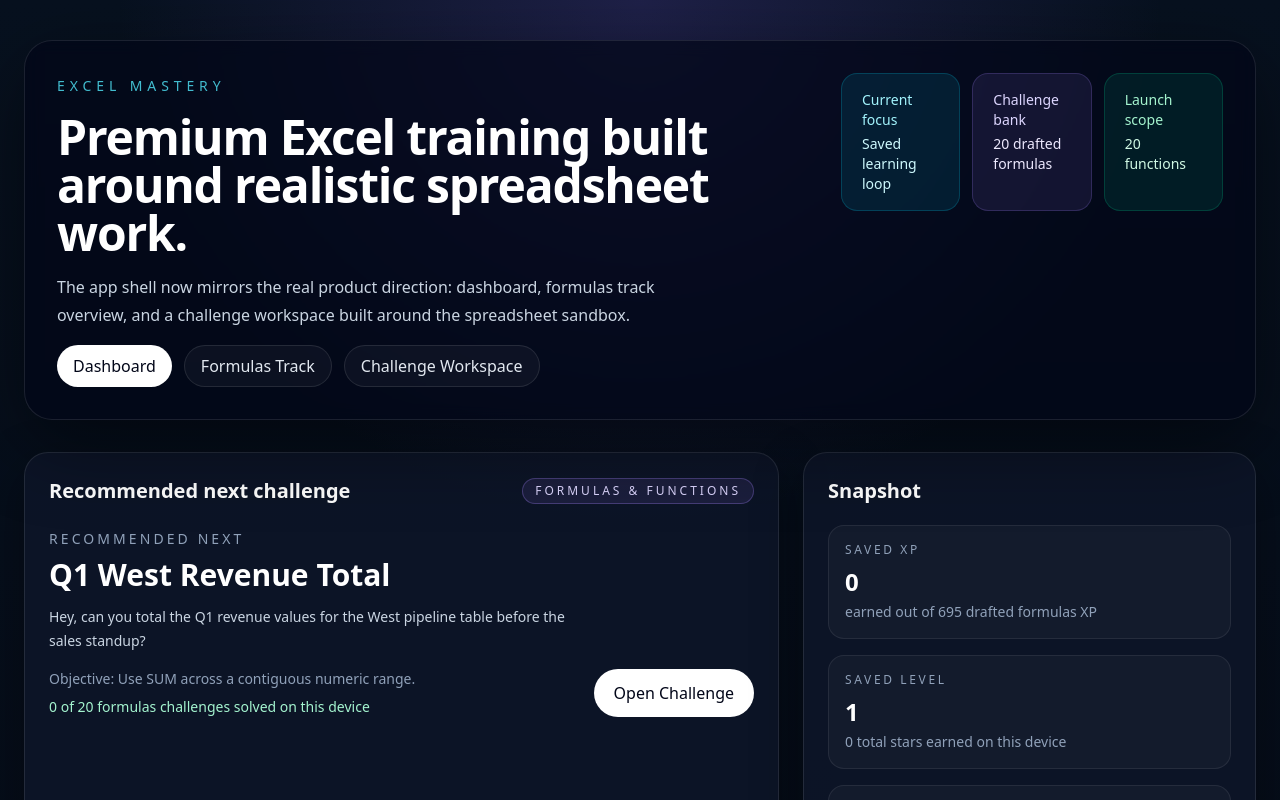
Test case: App › renders the formulas track overview
Click the button "Formulas Track". click: (258, 366)
box: [184, 345, 332, 387]
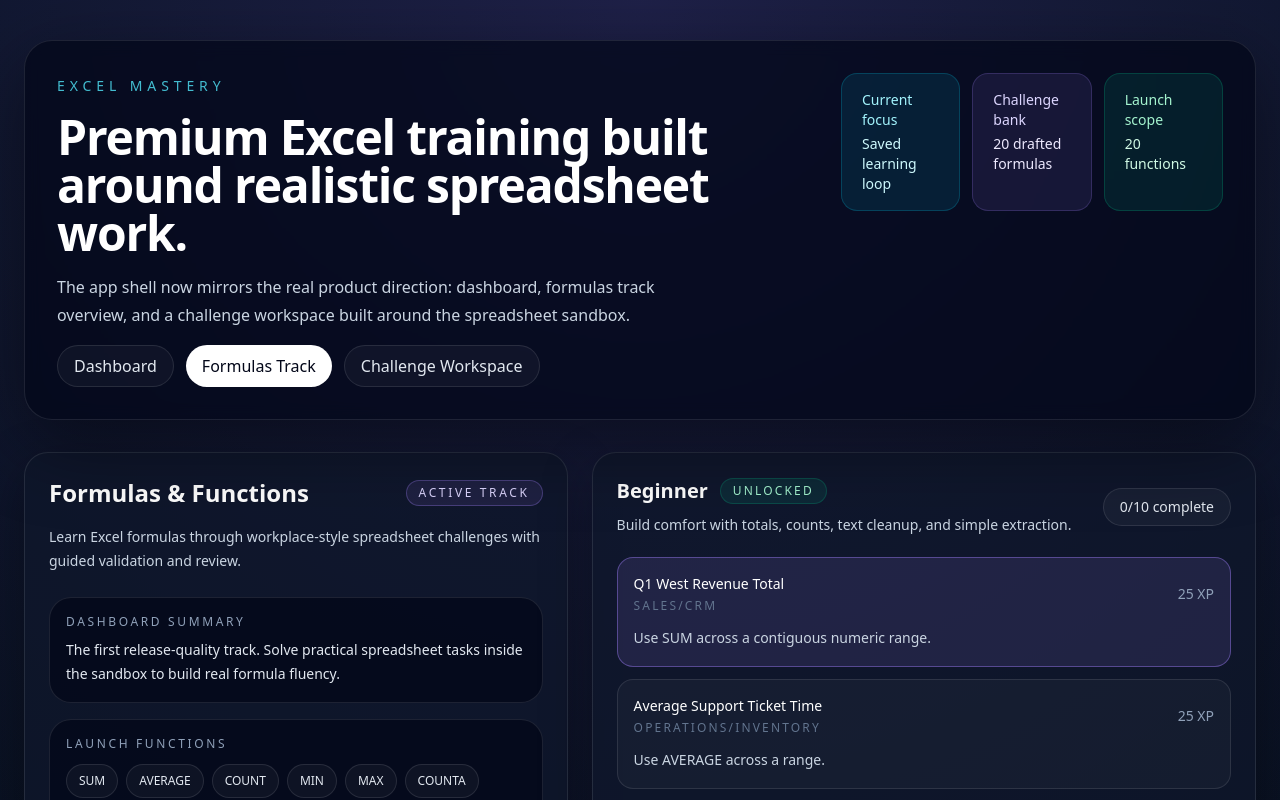
Expected: the heading "Formulas & Functions" is shown, [49, 477, 309, 509]
Now the button "Q1 West Revenue Total" is shown, box [617, 557, 1231, 667]
